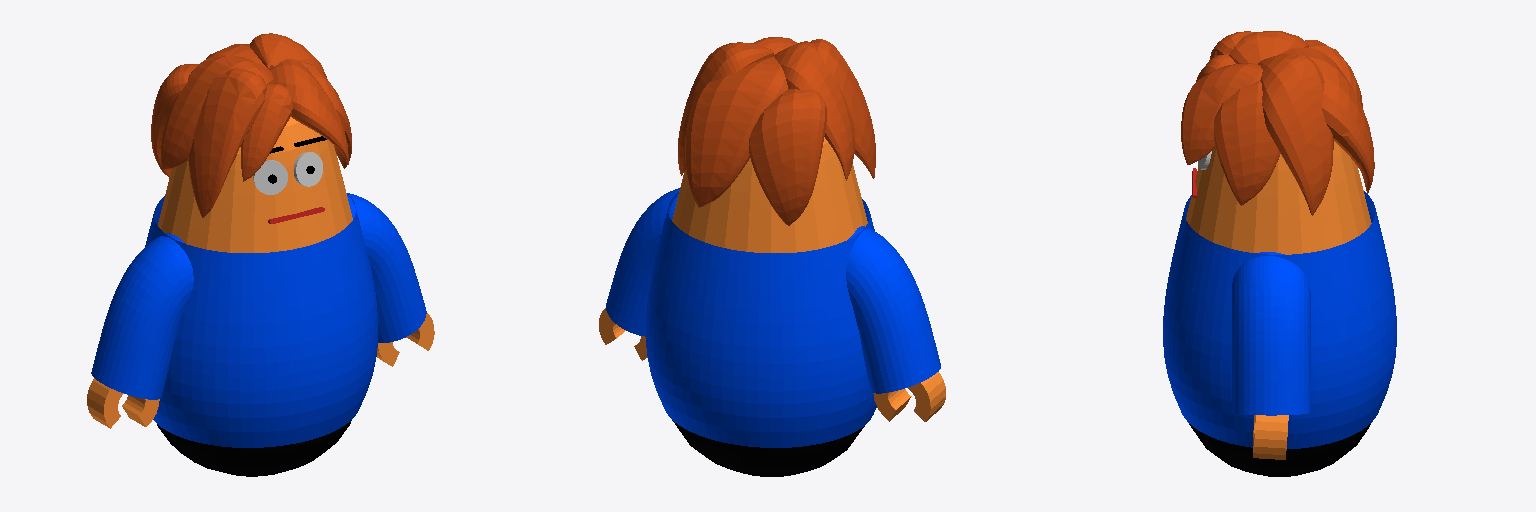
File: default_avatar.obj
3 renders of one model, left to right at view 1: azimuth 30°, elevation 25°; view 2: azimuth 150°, elevation 25°; view 3: azimuth 270°, elevation 25°, orthographic.
Visible parts, largest first — view 1: shirt, middle_part_hair_short, head, right_arm, left_arm, bottom, right_hand, left_hand, right_eye_white, left_eye_white; view 2: shirt, middle_part_hair_short, head, right_arm, left_arm, bottom, right_hand, left_hand; view 3: shirt, middle_part_hair_short, head, left_arm, bottom, left_hand.
Boxes of the visible parts, <box> form: shirt: <box>145,194,377,447</box>; middle_part_hair_short: <box>151,33,351,217</box>; head: <box>158,117,352,252</box>; right_arm: <box>91,233,193,399</box>; left_arm: <box>347,193,426,342</box>; bottom: <box>157,420,351,476</box>; right_hand: <box>87,378,159,428</box>; left_hand: <box>377,313,434,366</box>; right_eye_white: <box>253,160,287,194</box>; left_eye_white: <box>293,152,322,186</box>; shirt: <box>646,192,876,447</box>; middle_part_hair_short: <box>678,37,875,225</box>; head: <box>672,137,867,252</box>; right_arm: <box>846,226,940,393</box>; left_arm: <box>606,188,679,336</box>; bottom: <box>672,420,864,476</box>; right_hand: <box>873,372,945,421</box>; left_hand: <box>599,308,647,360</box>; shirt: <box>1163,191,1396,448</box>; middle_part_hair_short: <box>1181,31,1374,215</box>; head: <box>1186,141,1371,254</box>; left_arm: <box>1232,252,1310,415</box>; bottom: <box>1189,424,1370,476</box>; left_hand: <box>1253,415,1288,459</box>.
Size of the model in its own units: 0.4398 by 0.5316 by 0.2687.